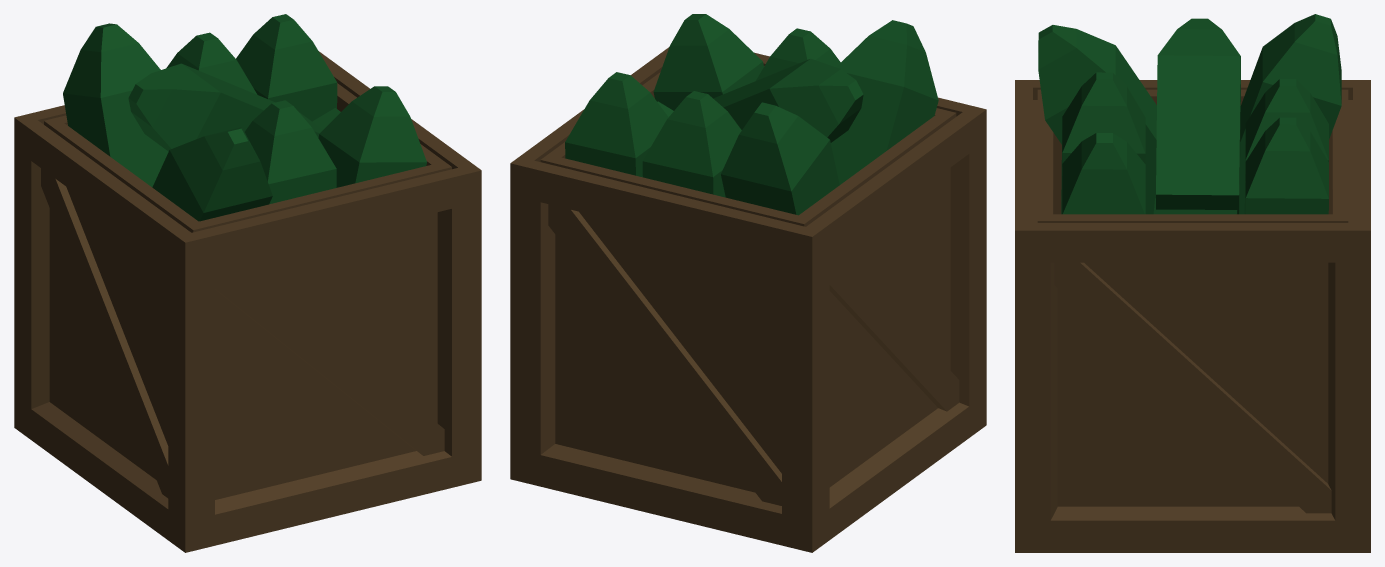
The model's file is crate_shells.fbx.
3 renders of one model, left to right at view 1: azimuth 30°, elevation 25°; view 2: azimuth 150°, elevation 25°; view 3: azimuth 270°, elevation 25°, orthographic. The views are drawn at different scales.
Parts seen in each view (by area): view 1: Cube; view 2: Cube; view 3: Cube.
Boxes of the visible parts, box(x1,y1,x2,y2) form: Cube: box(14, 14, 481, 552); Cube: box(510, 14, 986, 552); Cube: box(1015, 14, 1370, 552).
Bounding box in the file's own units: 200 × 261 × 200.
